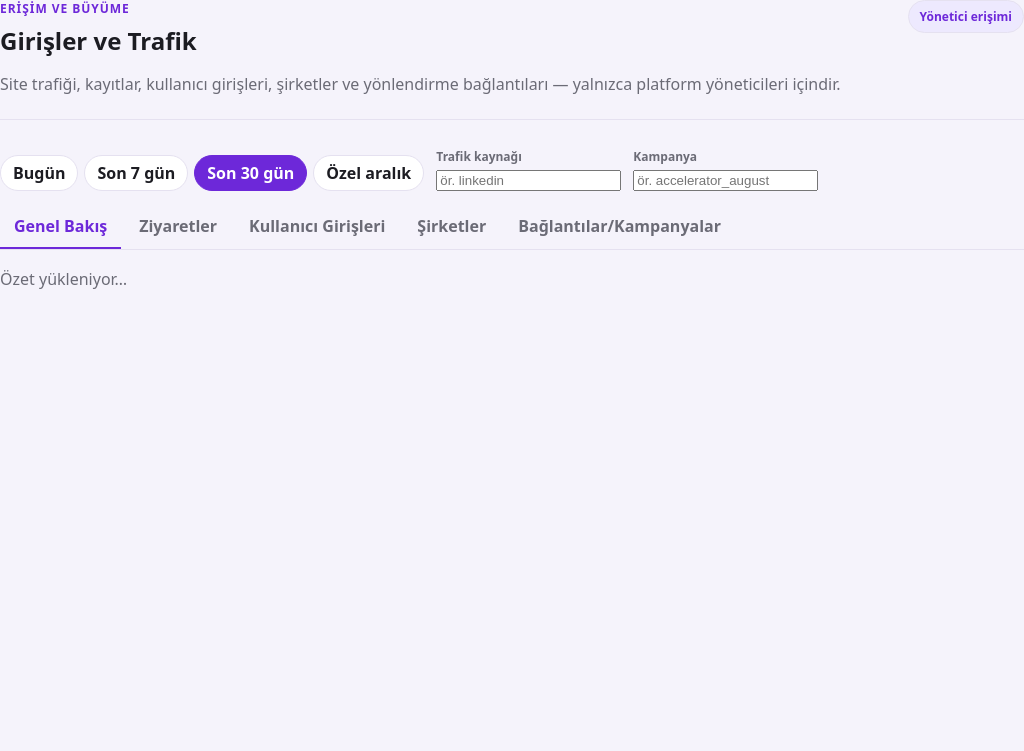
Scenario: AdminTraffic › kampanya/bağlantı oluşturma formu POST gönderir
The width and height of the screenshot is (1024, 751).
Click the tab "Bağlantılar/Kampanyalar".
click(620, 227)  # box top-left (504, 205), bottom-right (735, 249)
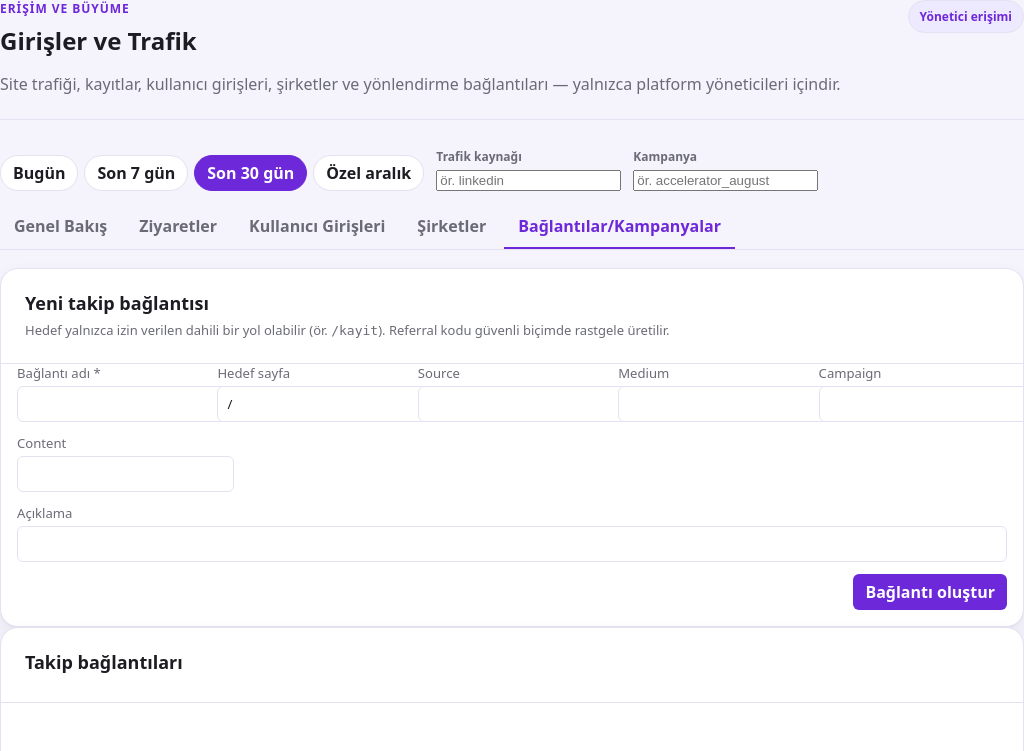
Check: the heading "Yeni takip bağlantısı" is shown, box top-left (25, 291), bottom-right (209, 315)
Type "LinkedIn Outreach" into the field labelled "Bağlantı adı *".
click(126, 404); type("LinkedIn Outreach")  # box top-left (17, 386), bottom-right (234, 422)
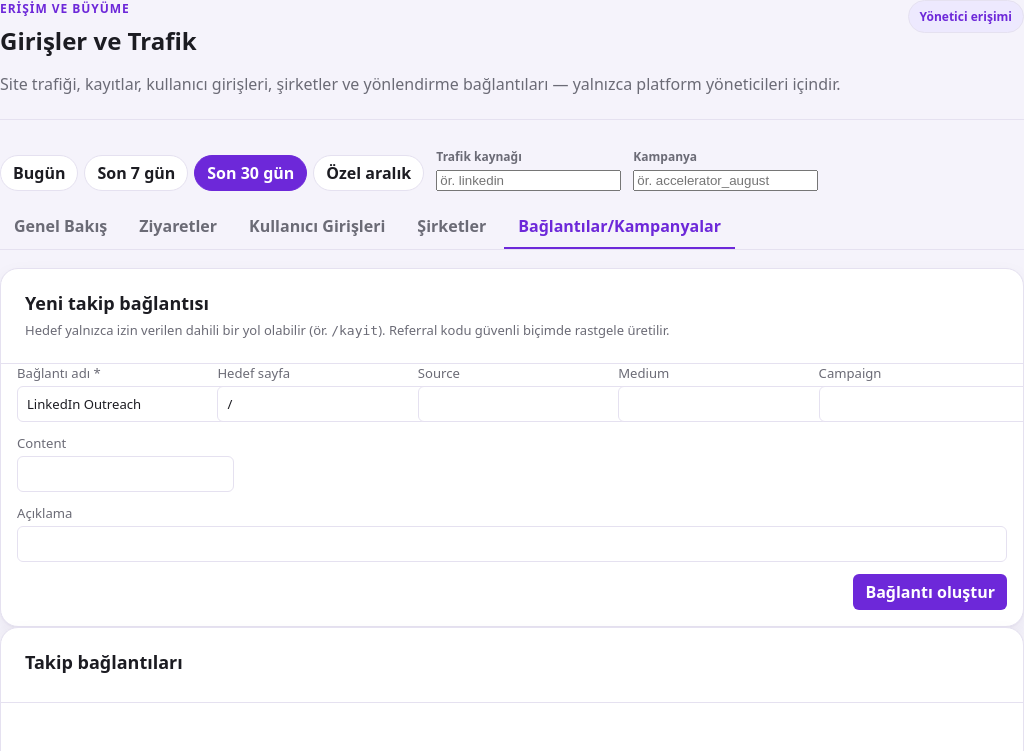
Click the button "Bağlantı oluştur".
click(930, 592)  # box top-left (853, 574), bottom-right (1007, 610)
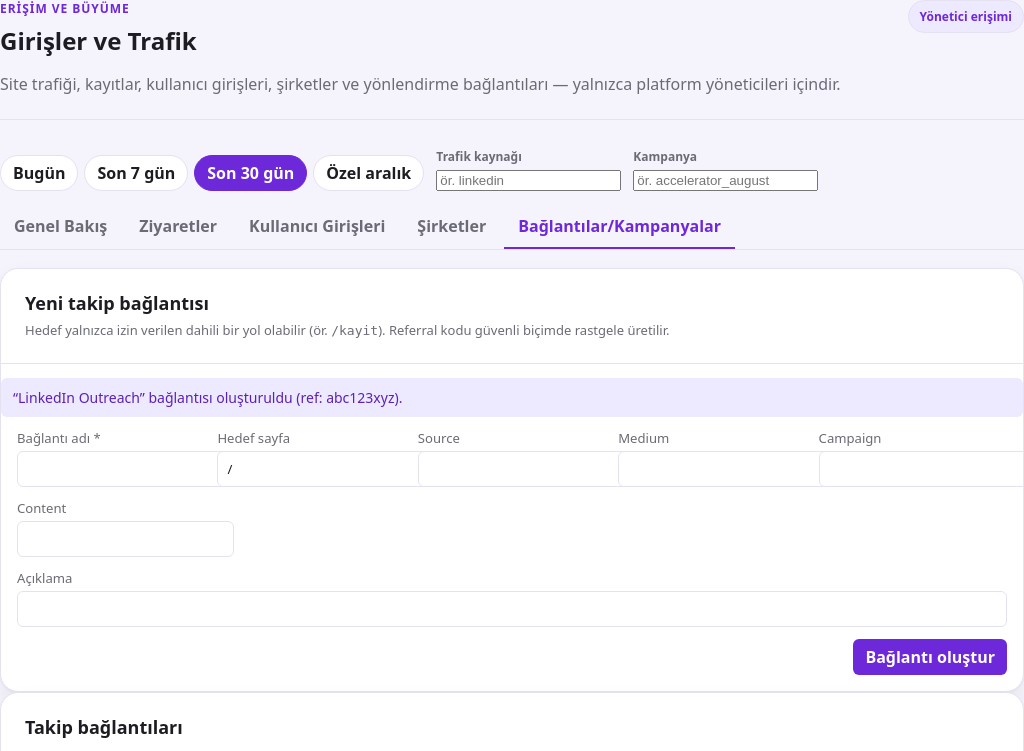
Check: the message shows "oluşturuldu", box top-left (13, 388), bottom-right (402, 406)
